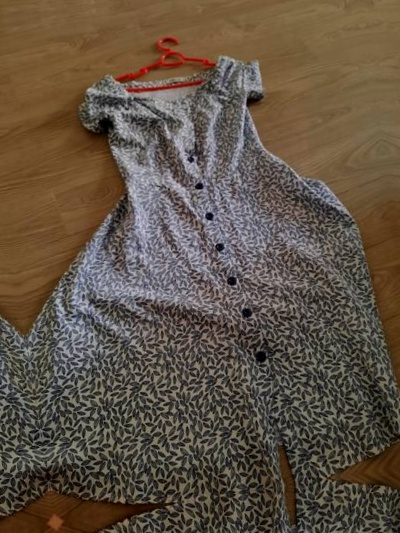Dress: (0, 10, 400, 511), (0, 71, 50, 533), (61, 474, 400, 533), (367, 0, 400, 449)
